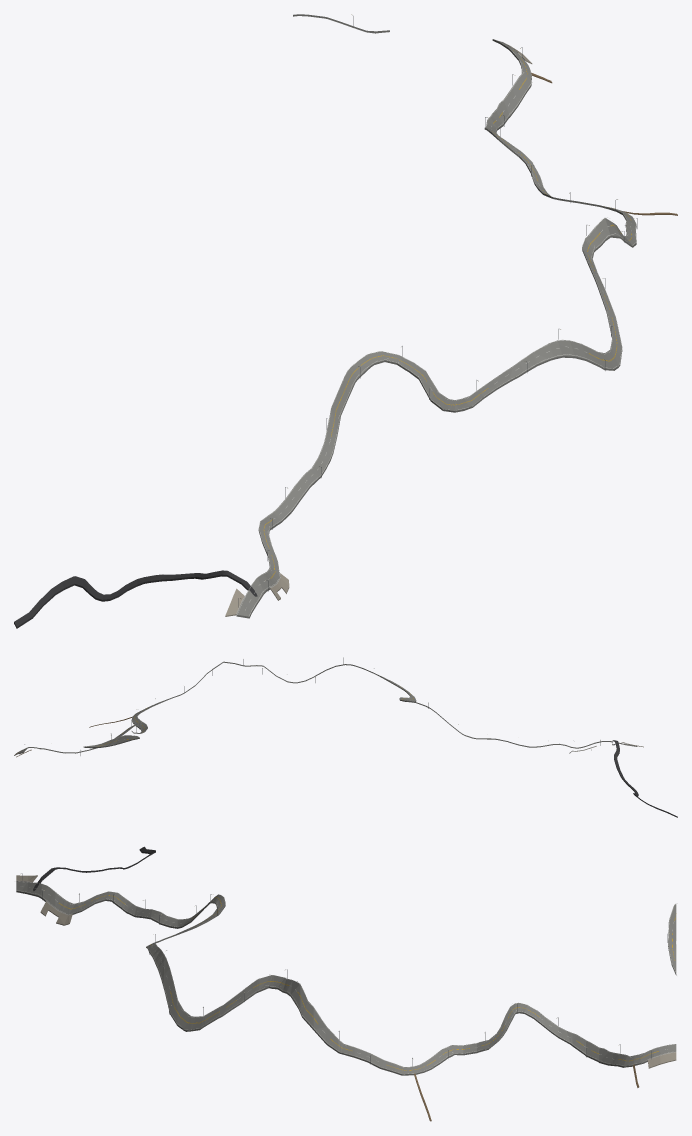
The model's file is 16-54741-29716.6bcea597.glb.
3 views of the same model, one above another, from view 1: azimuth 30°, elevation 25°; view 2: azimuth 150°, elevation 25°; view 3: azimuth 270°, elevation 25° (orthographic). The views are drawn at different scales.
Bounding box in the file's own units: 586 × 154 × 488.
